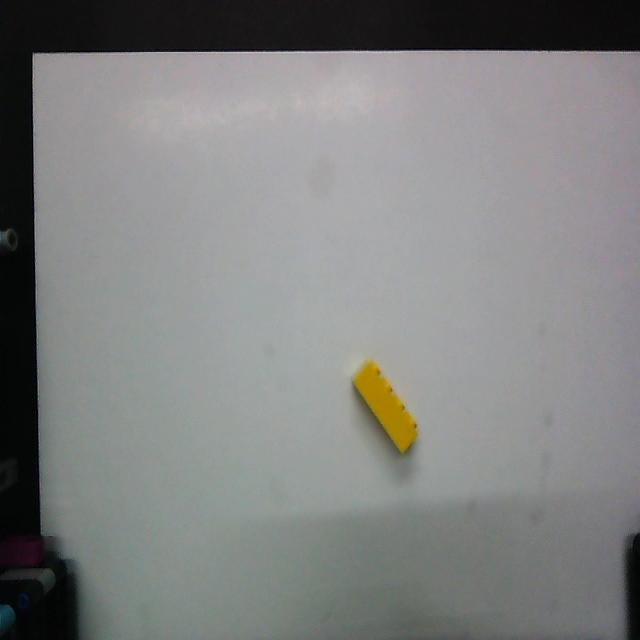lego_brick: (353, 361, 417, 452)
